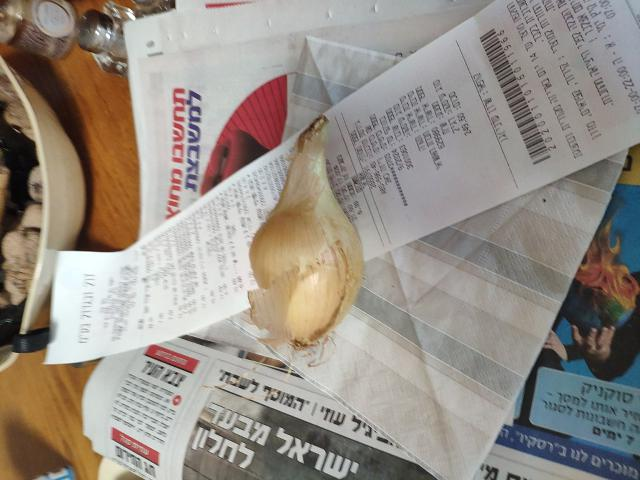onion: (243, 159, 366, 341)
